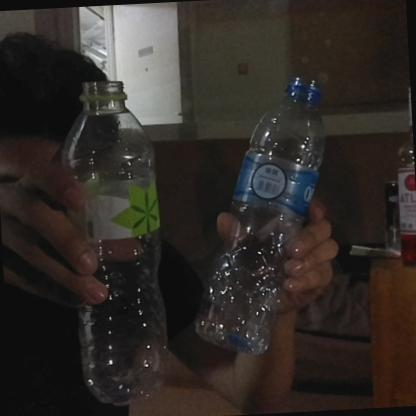plastic_bottles: (184, 68, 338, 356), (69, 75, 178, 405)
